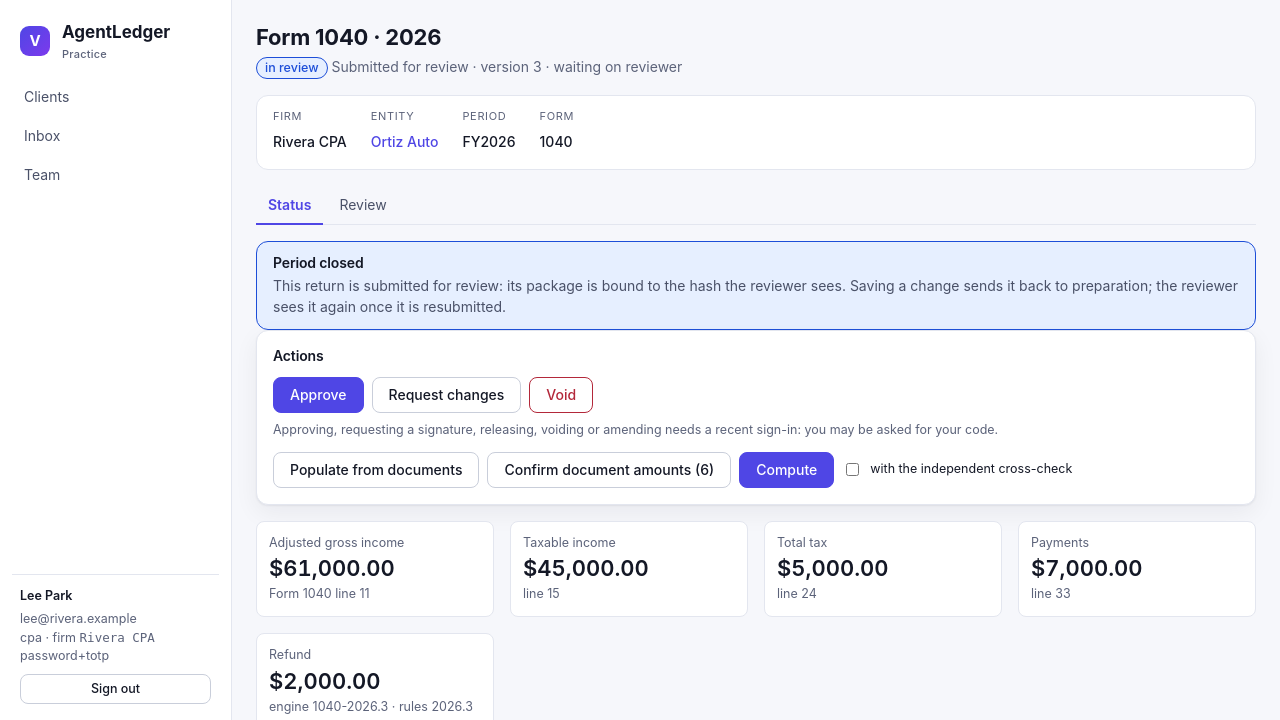
review authority › the workflow's refusal (409) is rendered as the Conflict state, one line per reason
Click the button "Approve" at (318, 395), box top-left (273, 377), bottom-right (364, 413)
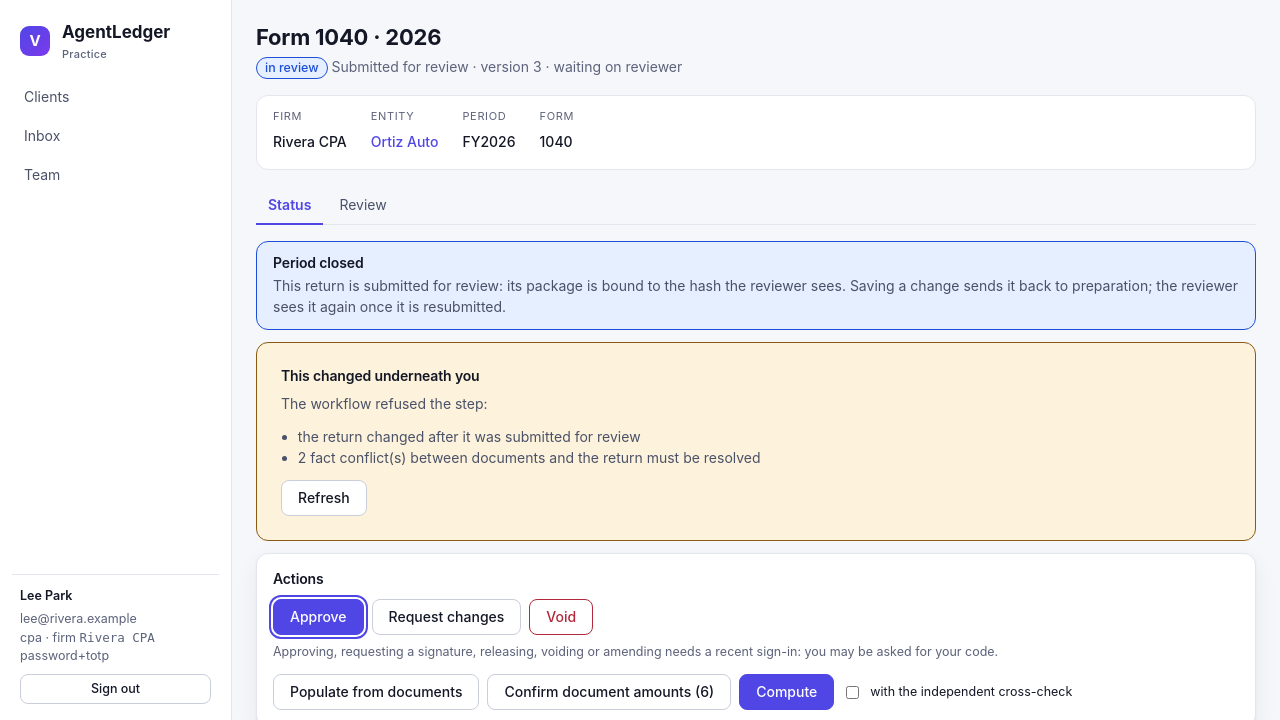
Check: the message "This changed underneath you" shows "the return changed after it was submitted for review", box top-left (298, 428), bottom-right (641, 445)
